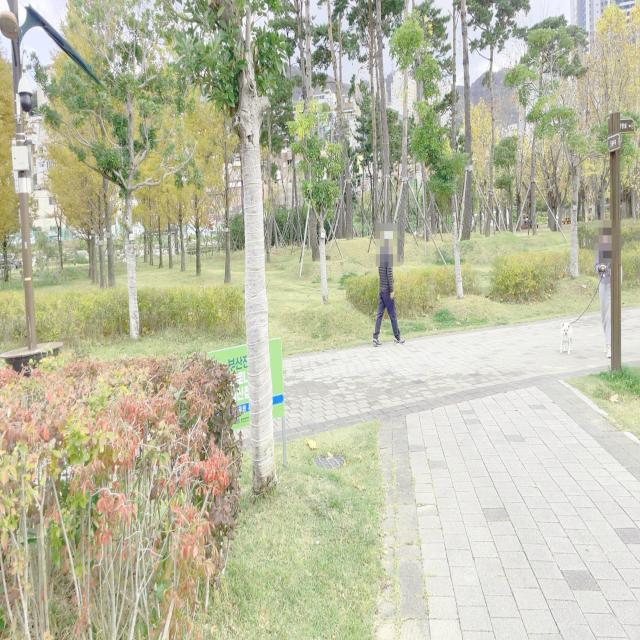Leashed_Dog: (560, 264, 610, 357)
